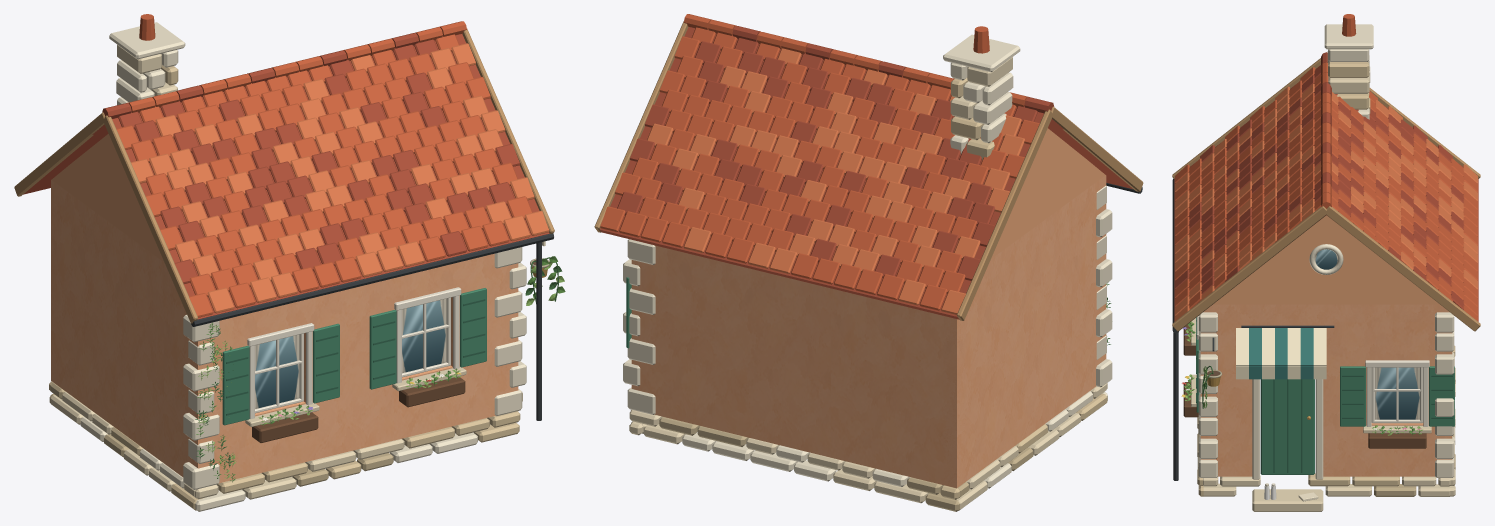
3 renders of one model, left to right at view 1: azimuth 30°, elevation 25°; view 2: azimuth 150°, elevation 25°; view 3: azimuth 270°, elevation 25°, orthographic. The views are drawn at different scales.
Visible parts, largest first — view 1: lane_salmon, lane_terracotta, lane_terracotta_dark, lane_terracotta_light, lane_limestone_pale, lane_shutter, lane_limestone, lane_window_pane, lane_white, lane_wood_light, lane_limestone_warm, lane_iron (+6 smaller); view 2: lane_salmon, lane_terracotta, lane_terracotta_dark, lane_terracotta_light, lane_limestone_pale, lane_limestone, lane_wood_light, lane_limestone_shade, lane_limestone_warm; view 3: lane_salmon, lane_terracotta, lane_terracotta_light, lane_terracotta_dark, lane_limestone_pale, lane_shutter, lane_wood_light, lane_limestone, lane_stripe_cream, lane_window_pane, lane_limestone_warm, lane_white (+5 smaller).
Boxes of the visible parts, bbox=[...] form: lane_salmon: bbox=[51, 134, 518, 483]; lane_terracotta: bbox=[116, 14, 532, 317]; lane_terracotta_dark: bbox=[23, 33, 549, 319]; lane_terracotta_light: bbox=[131, 43, 549, 313]; lane_limestone_pale: bbox=[80, 22, 526, 511]; lane_shutter: bbox=[222, 288, 486, 425]; lane_limestone: bbox=[50, 44, 522, 499]; lane_window_pane: bbox=[255, 298, 446, 408]; lane_white: bbox=[247, 287, 461, 418]; lane_wood_light: bbox=[14, 28, 554, 323]; lane_limestone_warm: bbox=[49, 65, 520, 510]; lane_iron: bbox=[191, 233, 553, 420]; lane_salmon: bbox=[631, 128, 1106, 488]; lane_terracotta: bbox=[600, 14, 1039, 310]; lane_terracotta_dark: bbox=[599, 26, 1133, 319]; lane_terracotta_light: bbox=[647, 48, 1024, 314]; lane_limestone_pale: bbox=[623, 34, 1112, 488]; lane_limestone: bbox=[629, 57, 1107, 510]; lane_wood_light: bbox=[594, 21, 1143, 320]; lane_limestone_shade: bbox=[659, 417, 1033, 511]; lane_limestone_warm: bbox=[940, 78, 1107, 499]; lane_salmon: bbox=[1200, 215, 1452, 476]; lane_terracotta: bbox=[1175, 14, 1477, 321]; lane_terracotta_light: bbox=[1175, 84, 1477, 321]; lane_terracotta_dark: bbox=[1174, 52, 1478, 321]; lane_limestone_pale: bbox=[1197, 24, 1455, 479]; lane_shutter: bbox=[1196, 339, 1454, 474]; lane_wood_light: bbox=[1172, 58, 1480, 331]; lane_limestone: bbox=[1191, 75, 1455, 511]; lane_stripe_cream: bbox=[1236, 328, 1326, 379]; lane_window_pane: bbox=[1315, 249, 1419, 419]; lane_limestone_warm: bbox=[1197, 62, 1455, 496]; lane_white: bbox=[1196, 316, 1429, 486].
Bounding box in the file's own units: 5.98 × 6.2 × 4.78.
32 materials, 2 textured.
